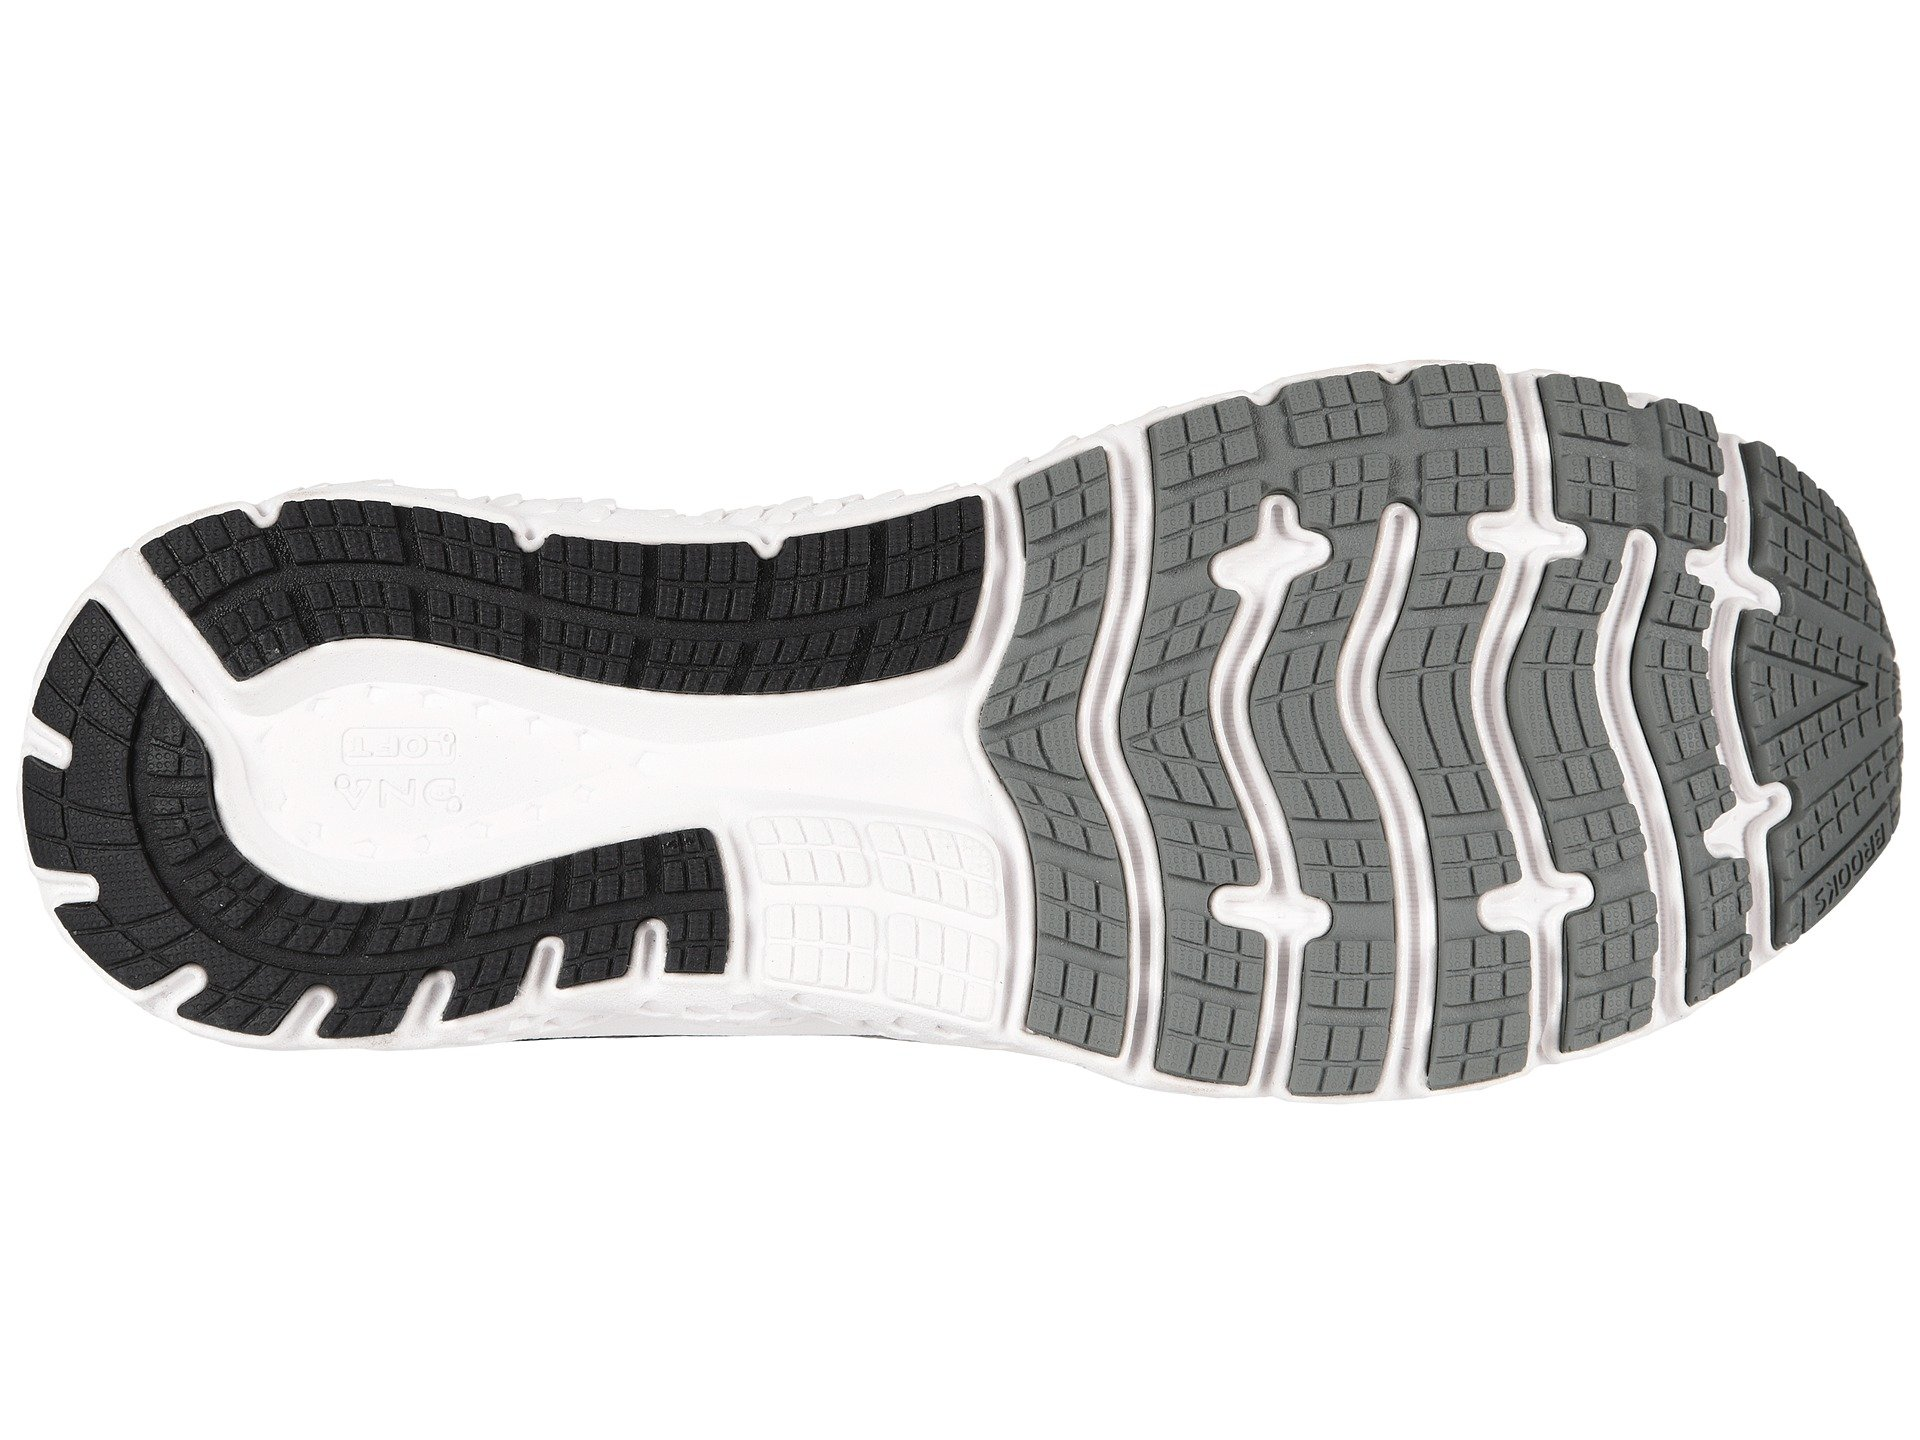exclude: (367, 641, 1054, 731)
other: (847, 363, 937, 452)
quad: (156, 154, 389, 330), (978, 325, 1191, 514), (1726, 257, 1869, 411), (1281, 29, 1444, 153), (50, 408, 200, 537), (559, 197, 698, 327), (1226, 309, 1339, 411), (339, 561, 420, 650)
text: (307, 360, 438, 481)
